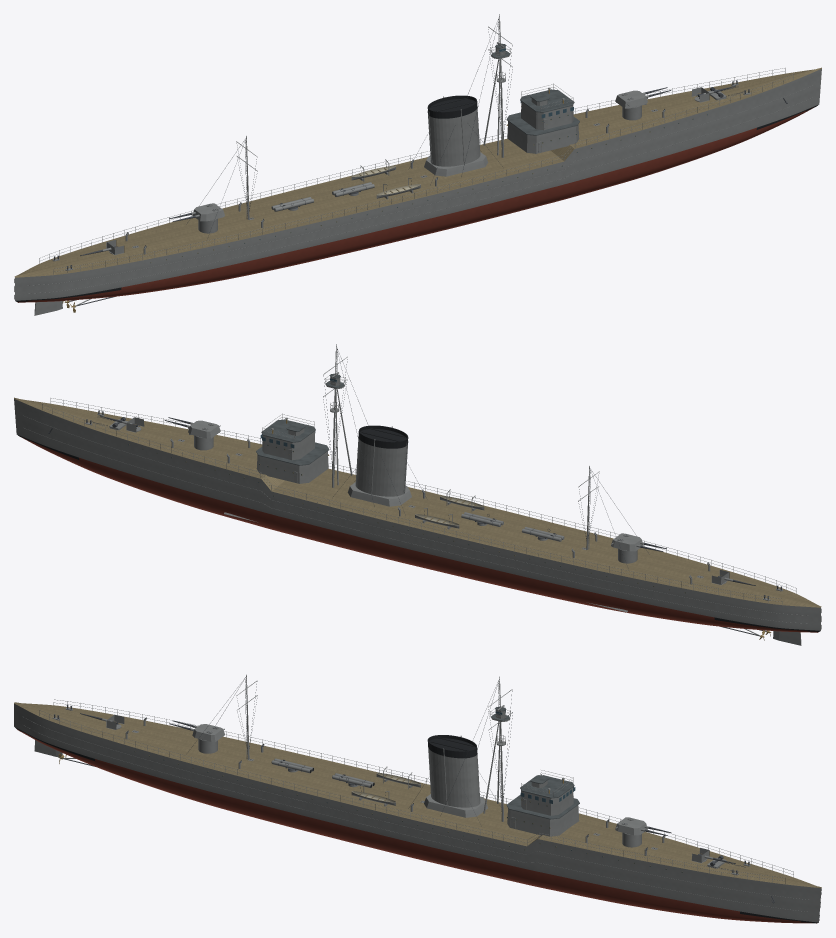
Rendered from yubari.glb.
3 renders of one model, top to bottom at view 1: azimuth 30°, elevation 25°; view 2: azimuth 150°, elevation 25°; view 3: azimuth 330°, elevation 25°, orthographic.
Parts seen in each view (by area): view 1: Yubari (experimental); view 2: Yubari (experimental); view 3: Yubari (experimental).
Part boxes in pixels (x1=…): Yubari (experimental): x1=14, y1=14, x2=821, y2=315; Yubari (experimental): x1=14, y1=344, x2=821, y2=645; Yubari (experimental): x1=14, y1=674, x2=821, y2=923.
Size of the model in its own units: 139 by 31.18 by 12.09.
9 materials, 8 textured.
